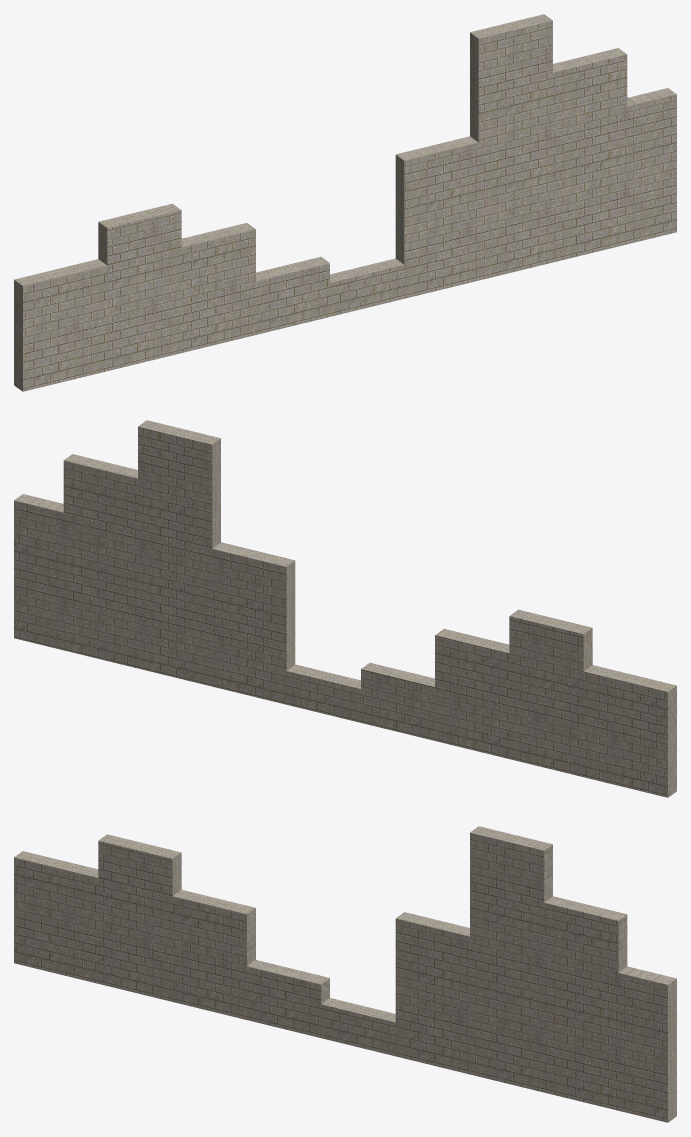
The model's file is wall_3.fbx.
3 renders of one model, top to bottom at view 1: azimuth 30°, elevation 25°; view 2: azimuth 150°, elevation 25°; view 3: azimuth 330°, elevation 25°, orthographic.
Parts seen in each view (by area): view 1: WALL_5; view 2: WALL_5; view 3: WALL_5.
Part boxes in pixels (box(x1,y1,x2,y2)): WALL_5: box(14, 14, 676, 391); WALL_5: box(14, 420, 676, 797); WALL_5: box(14, 826, 676, 1122).
Bounding box in the file's own units: 779 × 275 × 18.35.
1 material, 1 textured.
